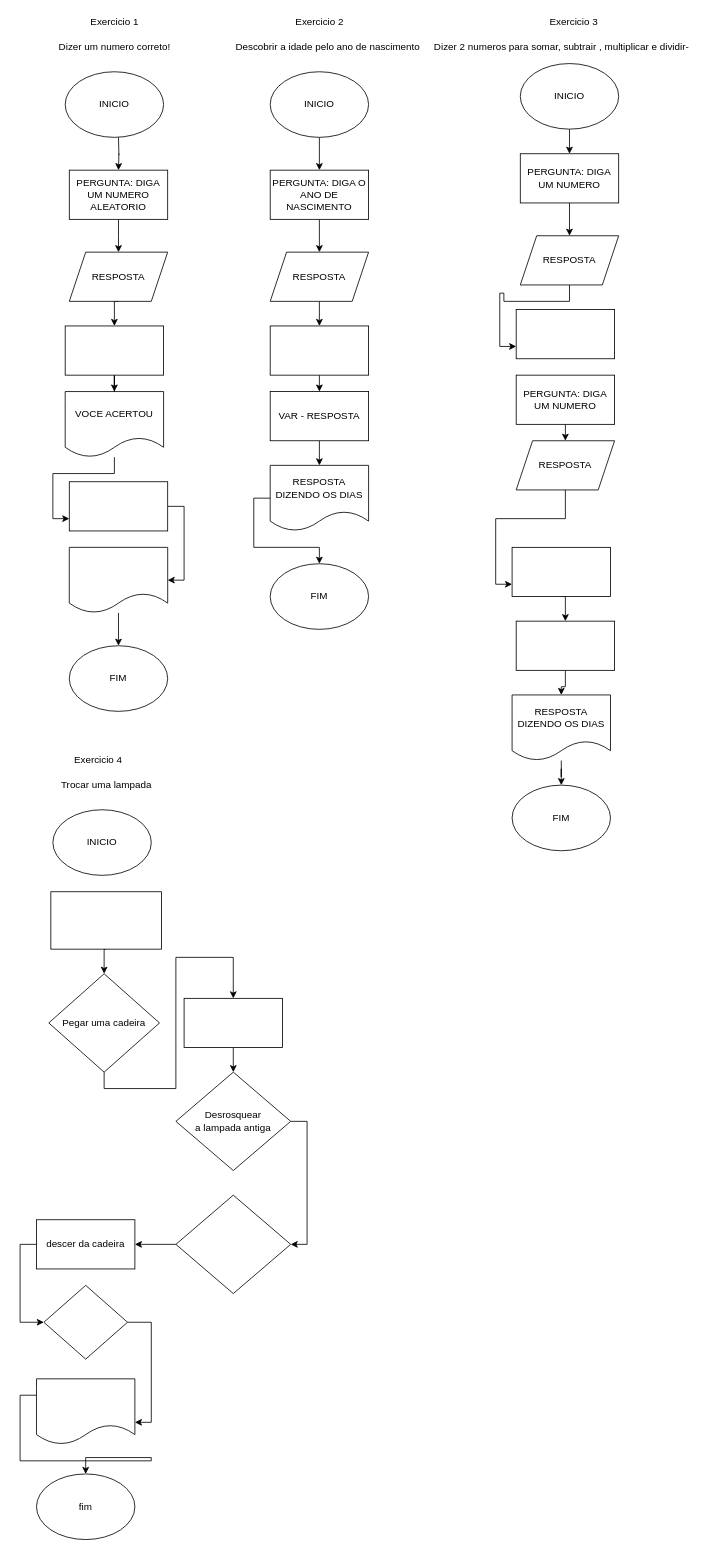
This 711x1554 diagram has some shape labels left out. Here are the shapes that lost their labels. From the top down, the centre of each, then its label:
the point at 114,350: FUNÇÃO SE = NUMERO
the point at 319,350: VAR = ANO ATUAL
the point at 565,334: DEFINIR VAR = A
the point at 118,506: FUNÇÃO SE NÃO = NUMERO
the point at 118,580: VOCE ERROU
the point at 560,572: DEFINIR VAR = B
the point at 565,645: DEFINIR OPERADOR +-*/
the point at 106,920: desligar interruptor
the point at 232,1023: Subir na cadeira
the point at 233,1244: rosquear a lampada nova
the point at 85,1322: ligar interruptor
the point at 85,1411: Acendeu
